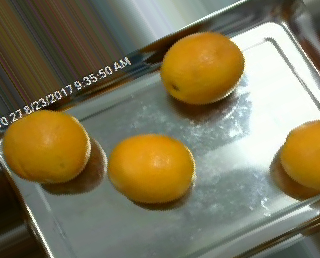Orange: (2, 109, 91, 183), (160, 30, 246, 106), (108, 133, 195, 204)
